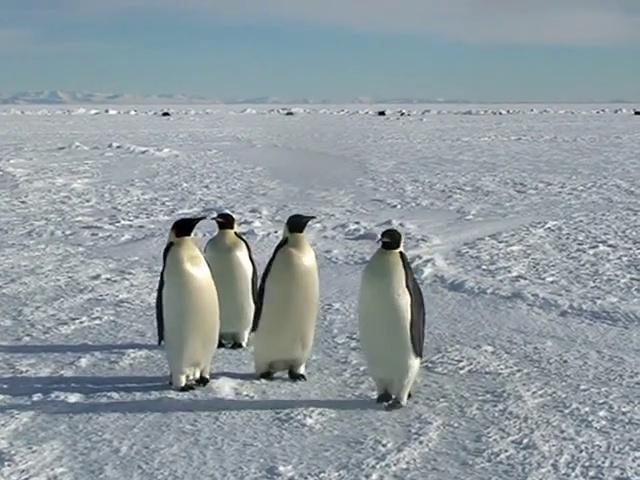animal: (358, 229, 424, 409)
